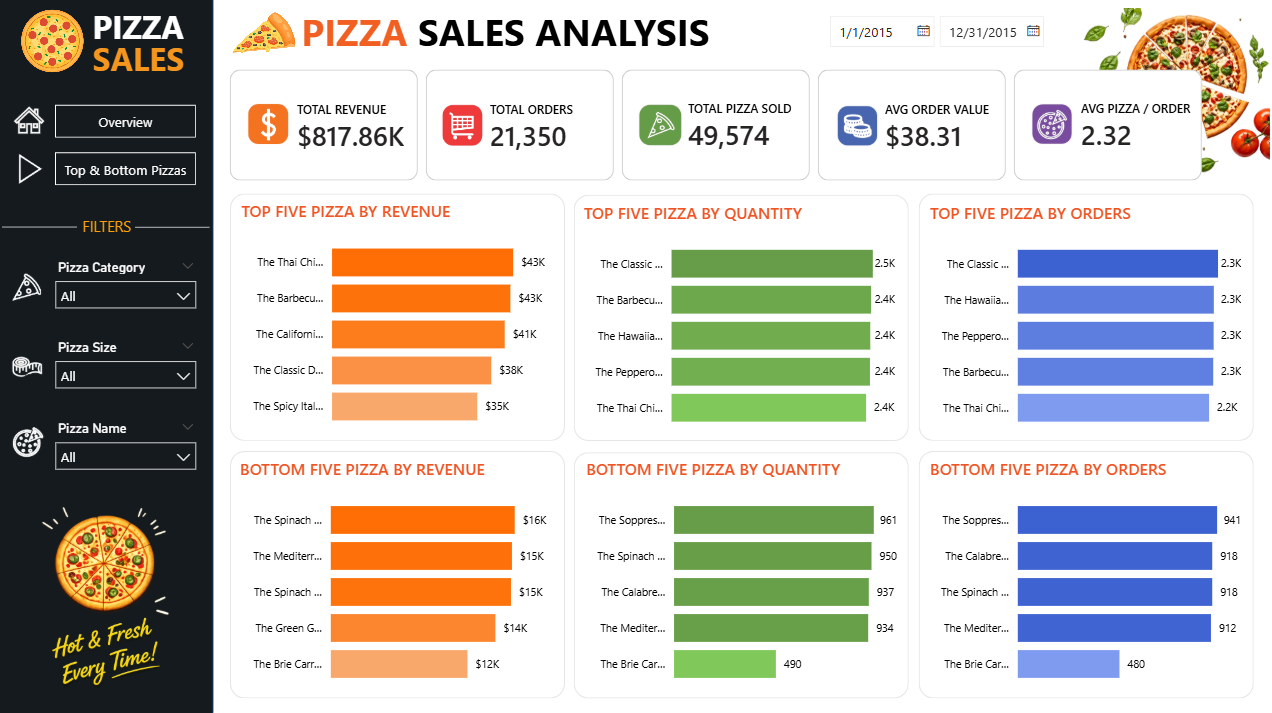

The dashboard page shown, as its layout file describes it:
{"tool":"powerbi","page":{"name":"Top & Bottom Pizzas","canvas":[1280,720],"ordinal":1},"visuals":[{"type":"textbox","box":[92.6,2.8,146.2,85],"z":0},{"type":"image","box":[230.3,5,78.8,63.8],"z":1000},{"type":"textbox","box":[301.5,5,571.2,85],"z":2000},{"type":"image","box":[1083.8,0,196.2,190],"z":3000},{"type":"cardVisual","fields":{"Data":["pizza_sales.Total Revenue","pizza_sales.Total Oders","pizza_sales.Total Pizza Sold","pizza_sales.Average Order Value","pizza_sales.Average Pizzas Per Order"]},"box":[230.5,68.7,983.8,121.2],"z":4000},{"type":"shape","box":[235.2,455,335,247.5],"z":5000},{"type":"slicer","fields":{"Values":["pizza_sales.order_date"]},"box":[822.5,10,237.5,53.8],"z":6000},{"type":"shape","box":[579,456.2,335,246.2],"z":7000},{"type":"shape","box":[924,455,335,247.5],"z":8000},{"type":"shape","box":[235.2,198,335,247.5],"z":9000},{"type":"shape","box":[579,199.2,335,246.2],"z":10000},{"type":"shape","box":[924,198,335,247.5],"z":11000},{"type":"barChart","title":"TOP FIVE PIZZA BY REVENUE","fields":{"Category":["pizza_sales.pizza_name"],"Y":["pizza_sales.Total Revenue"]},"box":[241.2,203.8,331.2,241.2],"z":12000},{"type":"barChart","title":"TOP FIVE PIZZA BY QUANTITY","fields":{"Category":["pizza_sales.pizza_name"],"Y":["pizza_sales.Total Pizza Sold"]},"box":[583.8,205,321.2,241.2],"z":13000},{"type":"barChart","title":"TOP FIVE PIZZA BY ORDERS","fields":{"Category":["pizza_sales.pizza_name"],"Y":["pizza_sales.Total Oders"]},"box":[930,205,321.2,241.2],"z":14000},{"type":"barChart","title":"BOTTOM FIVE PIZZA BY REVENUE","fields":{"Category":["pizza_sales.pizza_name"],"Y":["pizza_sales.Total Revenue"]},"box":[240,461.2,331.2,241.2],"z":15000},{"type":"barChart","title":"BOTTOM FIVE PIZZA BY QUANTITY","fields":{"Category":["pizza_sales.pizza_name"],"Y":["pizza_sales.Total Pizza Sold"]},"box":[586.2,461.2,321.2,241.2],"z":16000},{"type":"barChart","title":"BOTTOM FIVE PIZZA BY ORDERS","fields":{"Category":["pizza_sales.pizza_name"],"Y":["pizza_sales.Total Oders"]},"box":[930,461.2,321.2,241.2],"z":17000},{"type":"shape","box":[0,0,218.8,720],"z":18000},{"type":"textbox","box":[92.5,3.8,146.2,85],"z":19000},{"type":"image","box":[13.3,5,87.5,80],"z":20000},{"type":"textbox","box":[92.5,36.2,146.2,85],"z":21000},{"type":"slicer","fields":{"Values":["pizza_sales.pizza_name"]},"box":[50.4,419.5,161.2,78.8],"z":22000},{"type":"image","box":[18.3,503.8,183.4,194.4],"z":23000},{"type":"slicer","fields":{"Values":["pizza_sales.pizza_category"]},"box":[50.1,258.2,161.2,78.8],"z":24000},{"type":"image","box":[0.4,267,57.5,52.5],"z":25000},{"type":"image","box":[9.1,343.2,48.8,56.2],"z":26000},{"type":"image","box":[7.9,422,48.8,48.8],"z":27000},{"type":"pageNavigator","box":[60,156.2,141.2,33.8],"z":28000},{"type":"image","box":[8.8,96.2,52.5,56.2],"z":29000},{"type":"image","box":[8.8,150,52.5,46.2],"z":30000},{"type":"textbox","box":[81.9,215.4,80.7,30.6],"z":31000},{"type":"shape","box":[7.3,193.4,74.6,74.6],"z":32000},{"type":"shape","box":[139.4,204.4,74.6,52.6],"z":33000},{"type":"slicer","fields":{"Values":["pizza_sales.pizza_size"]},"box":[50.4,338.2,161.2,77.5],"z":34000},{"type":"pageNavigator","box":[60,108.8,141.2,33.8],"z":35000}]}

Visuals, with their boxes on the page's 1280x720 design canvas (x1, y1, x2, y2). These are canvas units, not pixel positions in the 1272x713 screenshot, which may show the page scaled, cropped or inside an application window:
textbox: (93, 3, 239, 88)
image: (230, 5, 309, 69)
textbox: (302, 5, 873, 90)
image: (1084, 0, 1280, 190)
cardVisual - pizza_sales.Total Revenue x pizza_sales.Total Oders: (230, 69, 1214, 190)
shape: (235, 455, 570, 702)
slicer - pizza_sales.order_date: (822, 10, 1060, 64)
shape: (579, 456, 914, 702)
shape: (924, 455, 1259, 702)
shape: (235, 198, 570, 446)
shape: (579, 199, 914, 445)
shape: (924, 198, 1259, 446)
"TOP FIVE PIZZA BY REVENUE" barChart: (241, 204, 572, 445)
"TOP FIVE PIZZA BY QUANTITY" barChart: (584, 205, 905, 446)
"TOP FIVE PIZZA BY ORDERS" barChart: (930, 205, 1251, 446)
"BOTTOM FIVE PIZZA BY REVENUE" barChart: (240, 461, 571, 702)
"BOTTOM FIVE PIZZA BY QUANTITY" barChart: (586, 461, 907, 702)
"BOTTOM FIVE PIZZA BY ORDERS" barChart: (930, 461, 1251, 702)
shape: (0, 0, 219, 720)
textbox: (92, 4, 239, 89)
image: (13, 5, 101, 85)
textbox: (92, 36, 239, 121)
slicer - pizza_sales.pizza_name: (50, 420, 212, 498)
image: (18, 504, 202, 698)
slicer - pizza_sales.pizza_category: (50, 258, 211, 337)
image: (0, 267, 58, 320)
image: (9, 343, 58, 399)
image: (8, 422, 57, 471)
pageNavigator: (60, 156, 201, 190)
image: (9, 96, 61, 152)
image: (9, 150, 61, 196)
textbox: (82, 215, 163, 246)
shape: (7, 193, 82, 268)
shape: (139, 204, 214, 257)
slicer - pizza_sales.pizza_size: (50, 338, 212, 416)
pageNavigator: (60, 109, 201, 143)
